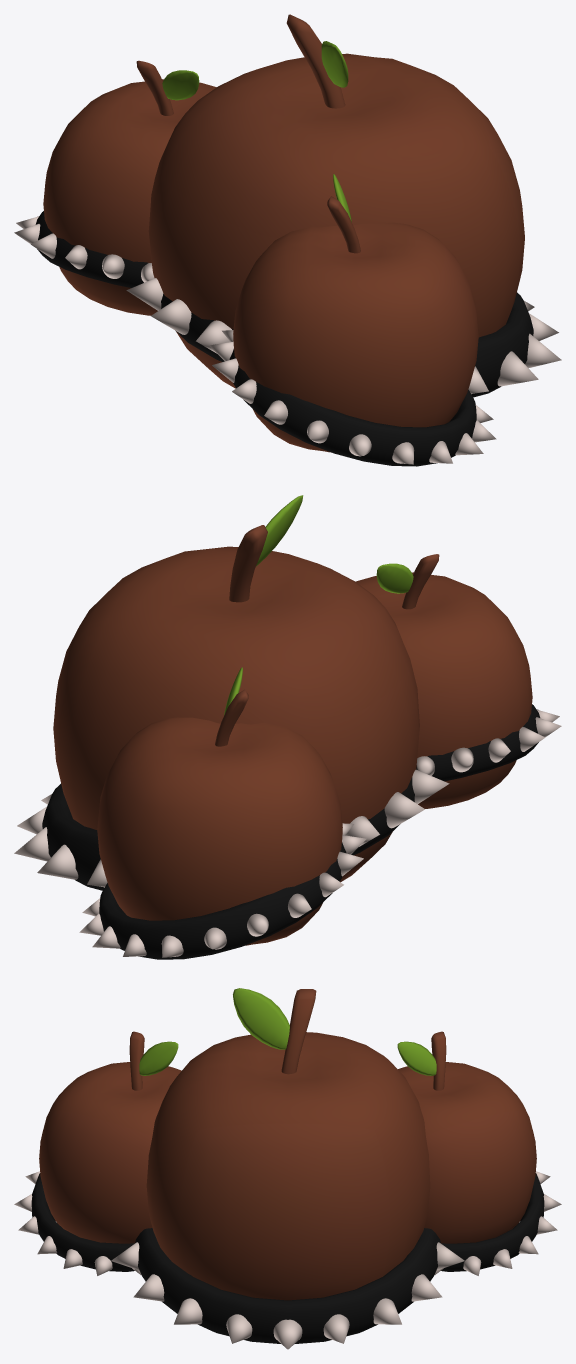
File: apple_cerberus.fbx
The picture shows the model from 3 angles, top to bottom: view 1: azimuth 30°, elevation 25°; view 2: azimuth 150°, elevation 25°; view 3: azimuth 270°, elevation 25°; orthographic projection. The views are drawn at different scales.
Parts seen in each view (by area): view 1: apple_standart, apple_standart.001, Cone.001, Cone; view 2: apple_standart, apple_standart.001, Cone.001, Cone; view 3: apple_standart, apple_standart.001, Cone, Cone.001.
Boxes of the visible parts, bbox=[...] form: apple_standart: bbox=[148, 14, 524, 388]; apple_standart.001: bbox=[43, 60, 478, 452]; Cone.001: bbox=[14, 211, 496, 466]; Cone: bbox=[126, 278, 561, 397]; apple_standart: bbox=[53, 495, 419, 882]; apple_standart.001: bbox=[97, 554, 532, 945]; Cone.001: bbox=[79, 704, 561, 959]; Cone: bbox=[14, 765, 449, 890]; apple_standart: bbox=[146, 988, 430, 1300]; apple_standart.001: bbox=[39, 1031, 536, 1243]; Cone: bbox=[111, 1228, 464, 1349]; Cone.001: bbox=[14, 1171, 561, 1275].
Size of the model in its own units: 71.61 by 60.19 by 105.
